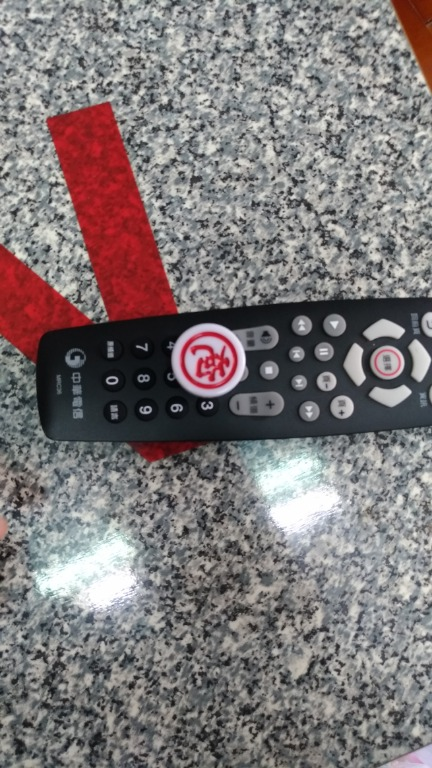r-cannon: (166, 313, 265, 407)
